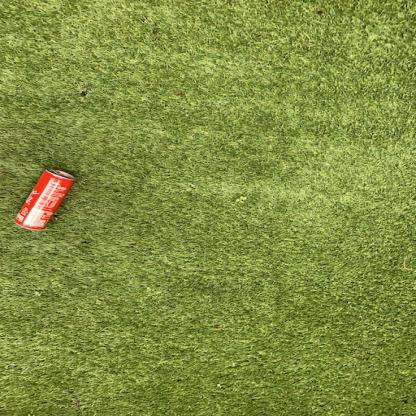trash: (6, 166, 84, 234)
